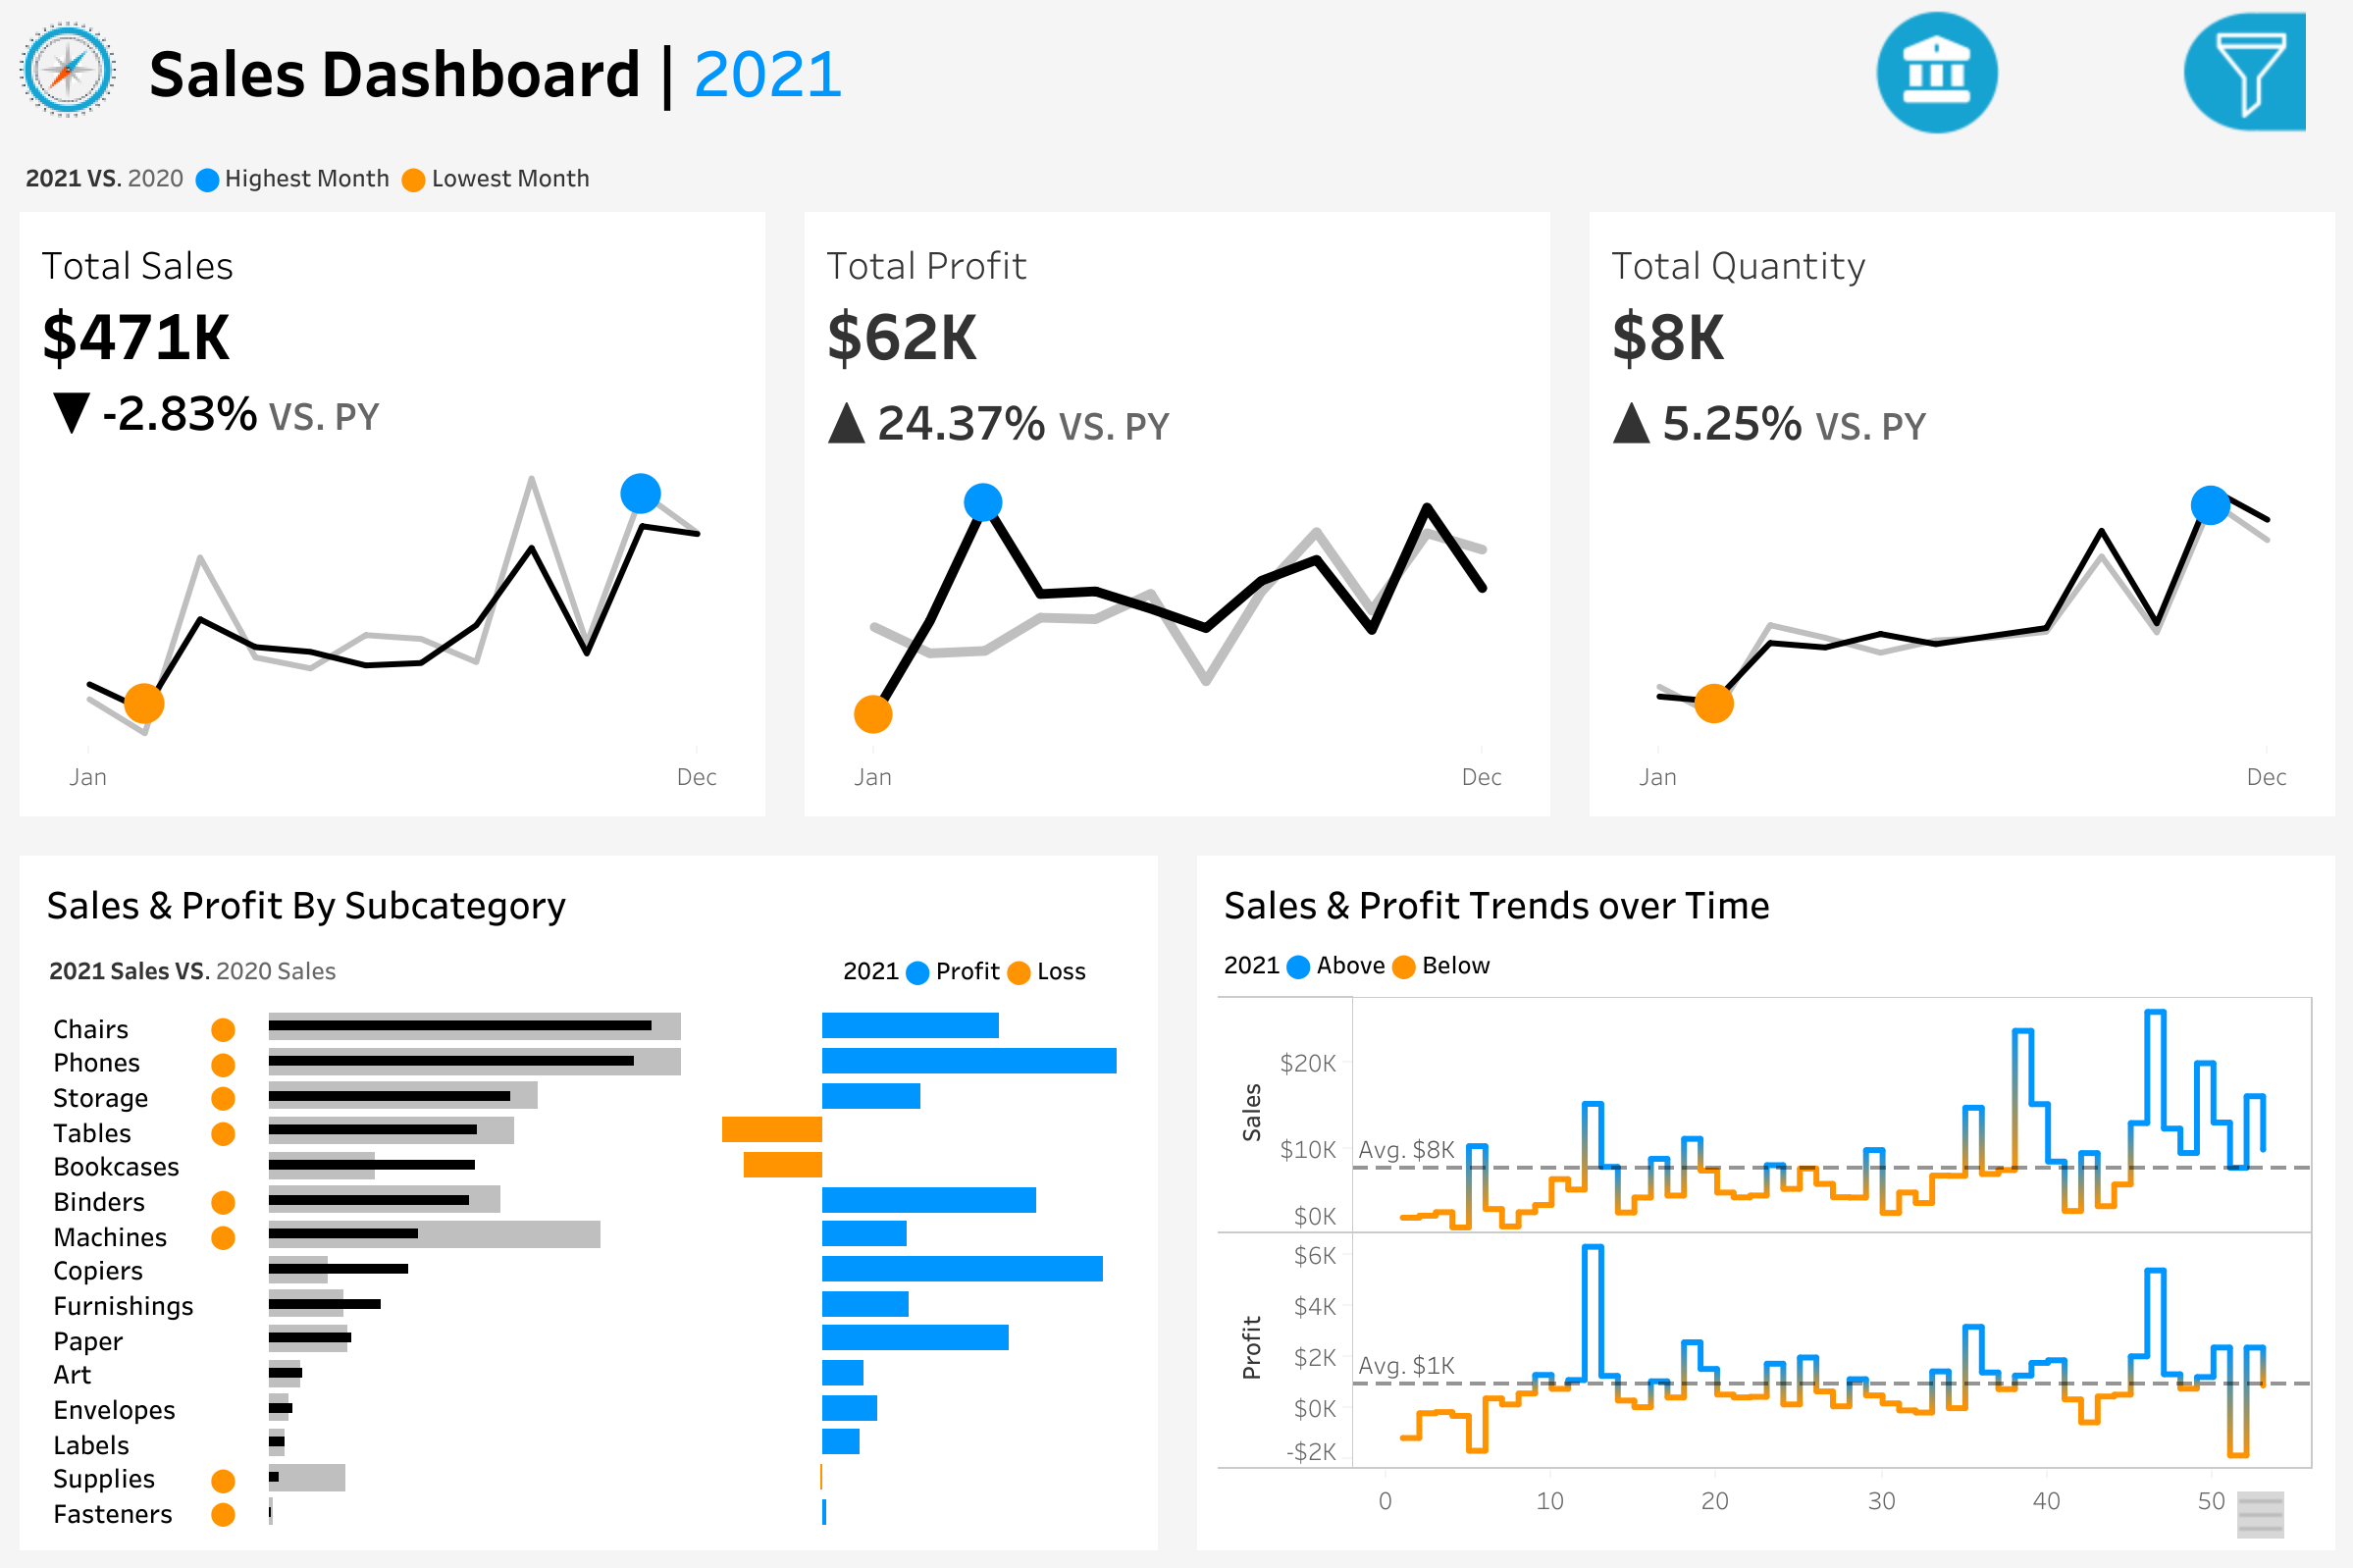

The dashboard page shown, as its layout file describes it:
{"tool":"tableau","page":{"name":"Sales Dashboard","canvas":[1200,800],"ordinal":0},"visuals":[{"type":"image","param":"Image/Icon - Logo.png","box":[0,0,69,72]},{"type":"text","box":[69,0,817,72]},{"type":"dashboard-object","box":[909,1,156,72]},{"type":"blank","box":[931,10,258,84]},{"type":"worksheet","title":"Legend KPI","mark":"Automatic","box":[0,72,1200,36]},{"type":"text","box":[931,94,258,35]},{"type":"worksheet","title":"KPI Sales","mark":"Automatic","rows":["Calculation_118430608812818434"],"cols":["Order Date"],"box":[0,108,400,318]},{"type":"worksheet","title":"KPI Profit","mark":"Automatic","rows":["Calculation_171981223158136832"],"cols":["Order Date"],"box":[400,108,400,318]},{"type":"worksheet","title":"KPI Quantity","mark":"Automatic","rows":["Calculation_142567088087801864"],"cols":["Order Date"],"box":[800,108,400,318]},{"type":"parameter","param":"[Parameters].[Parameter 1]","box":[931,129,258,44]},{"type":"blank","box":[931,173,258,44]},{"type":"text","box":[931,217,258,29]},{"type":"filter","title":"KPI Sales","param":"[federated.1xs3t0i0g9fxow1fuxj1j1iuibca].[none:Category:nk]","box":[931,246,258,52]},{"type":"filter","title":"KPI Sales","param":"[federated.1xs3t0i0g9fxow1fuxj1j1iuibca].[none:Sub-Category:nk]","box":[931,298,258,52]},{"type":"text","box":[931,350,258,29]},{"type":"filter","title":"KPI Sales","param":"[federated.1xs3t0i0g9fxow1fuxj1j1iuibca].[none:Region:nk]","box":[931,379,258,52]},{"type":"filter","title":"KPI Sales","param":"[federated.1xs3t0i0g9fxow1fuxj1j1iuibca].[none:State:nk]","box":[931,431,258,52]},{"type":"text","box":[17,443,566,34]},{"type":"text","box":[617,443,566,34]},{"type":"worksheet","title":"Legend Subcategory","mark":"Automatic","box":[17,477,406,32]},{"type":"text","box":[423,477,160,32]},{"type":"text","box":[617,477,566,25]},{"type":"filter","title":"KPI Sales","param":"[federated.1xs3t0i0g9fxow1fuxj1j1iuibca].[none:City:nk]","box":[931,483,258,52]},{"type":"worksheet","title":"Weekly Trends","mark":"Automatic","rows":["Calculation_139752338256744448","Calculation_142567088078012416"],"cols":["Order Date"],"box":[617,502,566,281]},{"type":"worksheet","title":"Subcategory Comparison","mark":"Bar","rows":["Sub-Category","Calculation_53339520661057536"],"cols":["Calculation_118430608811487233","Calculation_139752338256744448","Calculation_142567088078012416"],"box":[17,509,566,274]},{"type":"dashboard-object","box":[1140,760,24,24]}]}

Visuals, with their boxes in screenshot pixels (x1, y1, x2, y2), scaled from the page's 1200x800 canvas onto the 2353x1568 screenshot:
image: Rect(0, 0, 135, 141)
text: Rect(135, 0, 1738, 141)
dashboard-object: Rect(1782, 2, 2088, 143)
blank: Rect(1825, 20, 2331, 184)
"Legend KPI" worksheet: Rect(0, 141, 2352, 212)
text: Rect(1825, 184, 2331, 253)
"KPI Sales" worksheet: Rect(0, 212, 784, 835)
"KPI Profit" worksheet: Rect(784, 212, 1569, 835)
"KPI Quantity" worksheet: Rect(1569, 212, 2352, 835)
parameter: Rect(1825, 253, 2331, 340)
blank: Rect(1825, 340, 2331, 425)
text: Rect(1825, 425, 2331, 482)
"KPI Sales" filter: Rect(1825, 482, 2331, 584)
"KPI Sales" filter: Rect(1825, 584, 2331, 686)
text: Rect(1825, 686, 2331, 743)
"KPI Sales" filter: Rect(1825, 743, 2331, 845)
"KPI Sales" filter: Rect(1825, 845, 2331, 947)
text: Rect(33, 868, 1143, 935)
text: Rect(1210, 868, 2320, 935)
"Legend Subcategory" worksheet: Rect(33, 935, 829, 998)
text: Rect(829, 935, 1143, 998)
text: Rect(1210, 935, 2320, 984)
"KPI Sales" filter: Rect(1825, 947, 2331, 1049)
"Weekly Trends" worksheet: Rect(1210, 984, 2320, 1535)
"Subcategory Comparison" worksheet (Bar marks): Rect(33, 998, 1143, 1535)
dashboard-object: Rect(2235, 1490, 2282, 1537)
